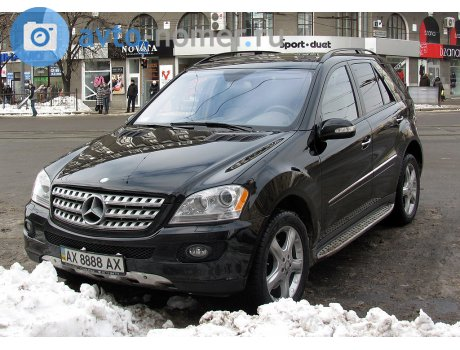car: (22, 48, 423, 304)
plate: (61, 245, 123, 271)
